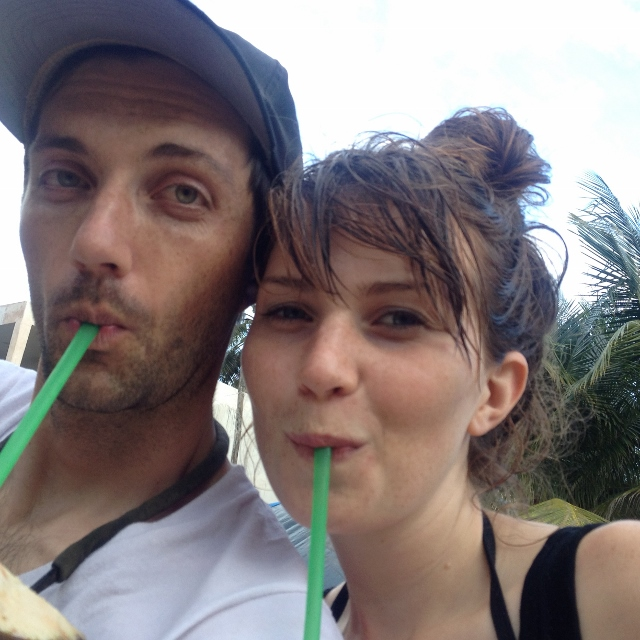human: (253, 178, 521, 526), (21, 38, 246, 413)
